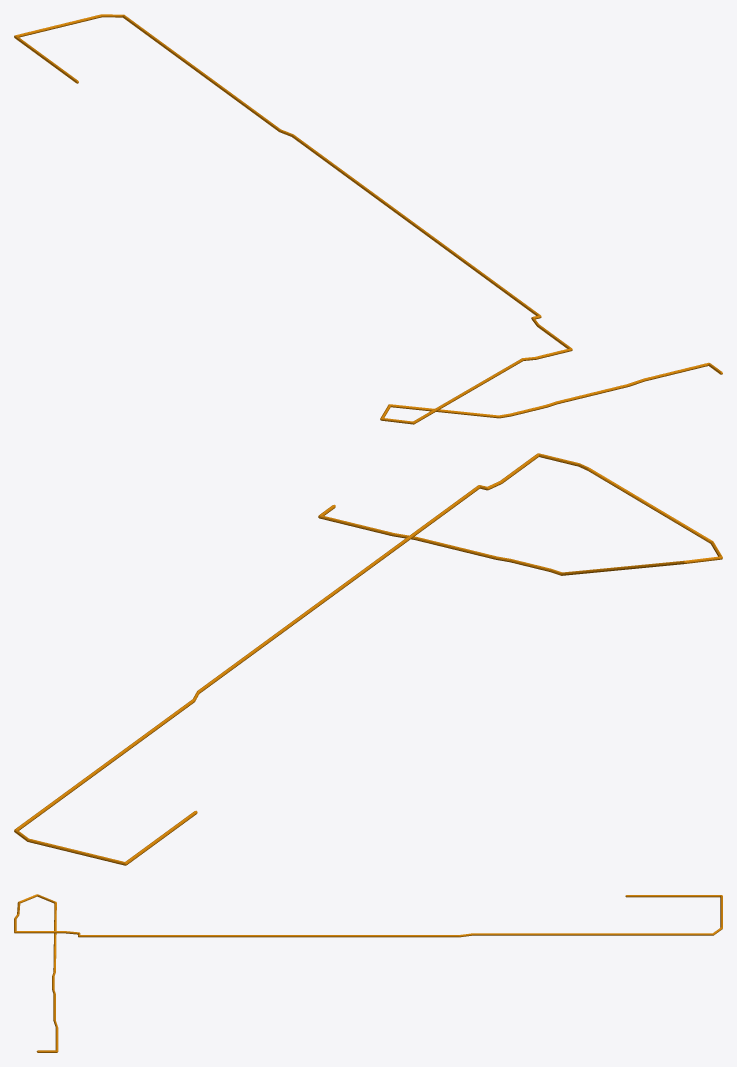
3 renders of one model, top to bottom at view 1: azimuth 30°, elevation 25°; view 2: azimuth 150°, elevation 25°; view 3: azimuth 270°, elevation 25°, orthographic. The views are drawn at different scales.
Bounding box in the file's own units: 2402 × 520 × 5592.
